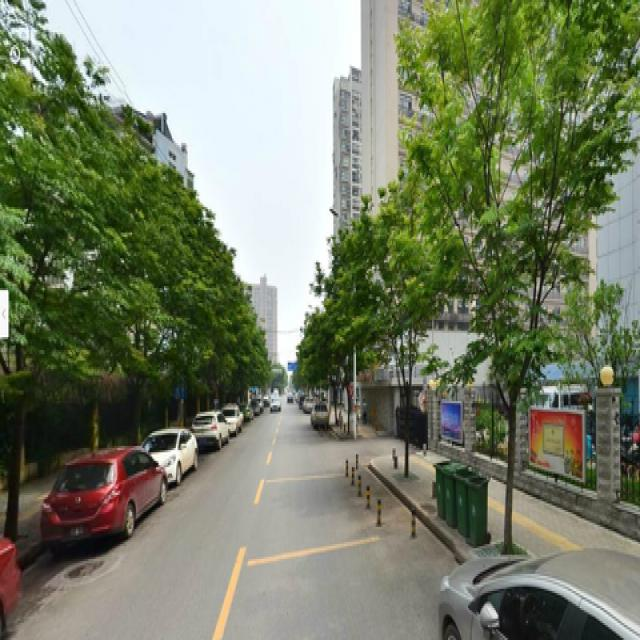koel: (424, 11, 619, 540)
